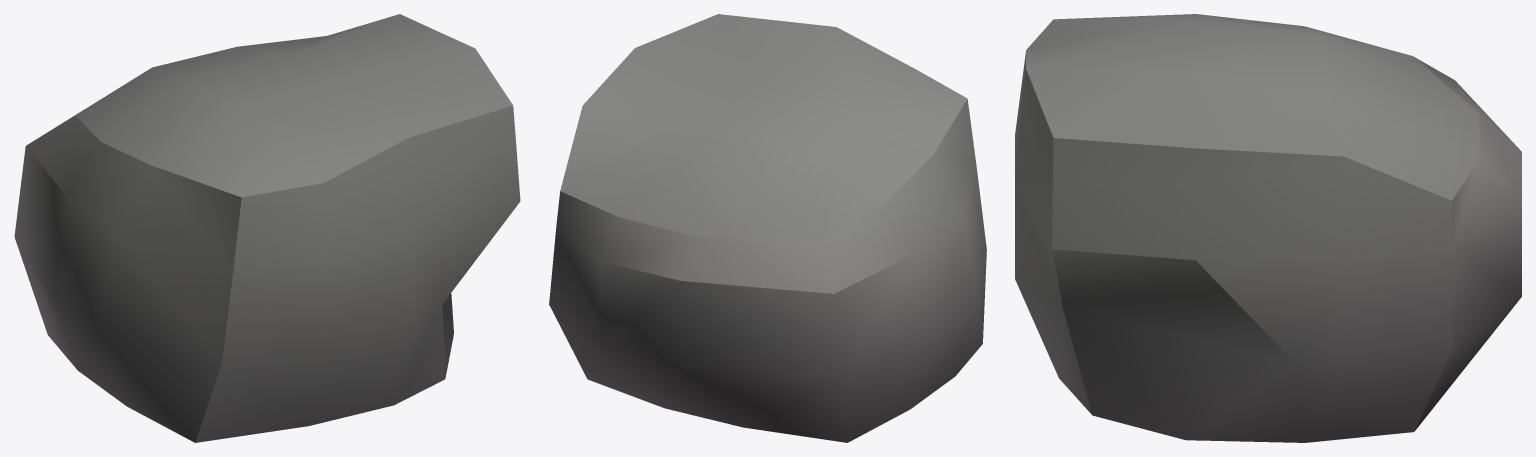
Rendered from Rock_1.fbx.
3 views of the same model, side by side, from view 1: azimuth 30°, elevation 25°; view 2: azimuth 150°, elevation 25°; view 3: azimuth 270°, elevation 25° (orthographic). The views are drawn at different scales.
Parts seen in each view (by area): view 1: Rock_1; view 2: Rock_1; view 3: Rock_1.
Boxes of the visible parts, x1,y1,x2,y2 form: Rock_1: (14, 14, 520, 442); Rock_1: (549, 14, 986, 442); Rock_1: (1015, 14, 1521, 442).
Bounding box in the file's own units: 1.28 × 0.8772 × 1.3.
